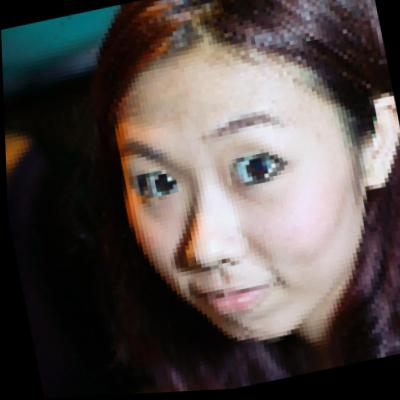surprise: (93, 19, 388, 359)
